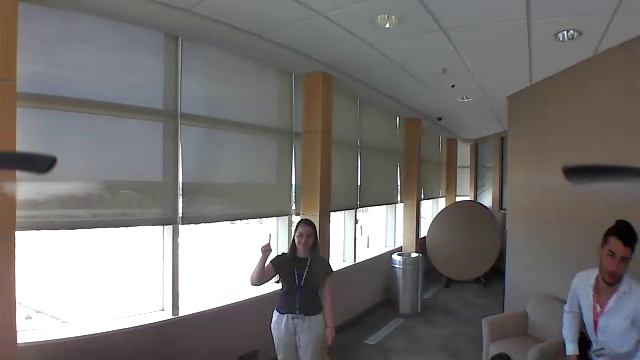up: (259, 231, 275, 258)
